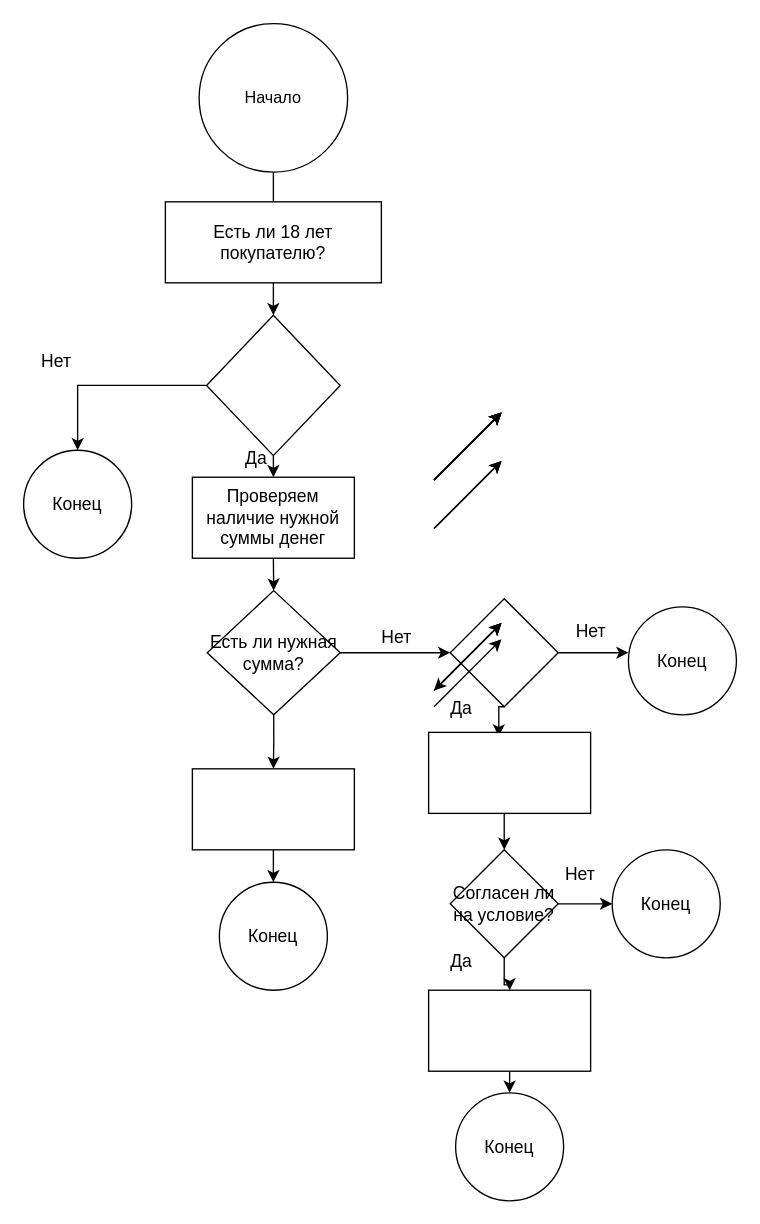
Some shapes in this 760 by 1224 pixel diagram are drawn without their labels. The shapes that lost their labels are listed below. From the top down, each one's centre as x and y in pixels, then its label:
point 272,385: Условие Верно?
point 503,652: Предлагаем кредит
point 509,772: Считаем сумму, озвучиваем платеж на 3 года
point 272,808: Поздравляем покупателя с приобретением авто
point 509,1030: Озвучиваем характеристики машины , продаем, и поздравляем!
